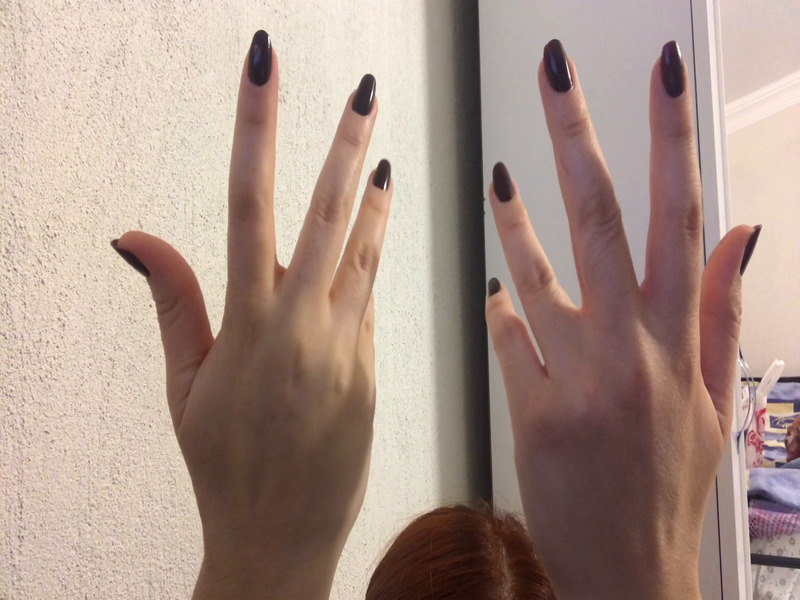hand: (481, 22, 764, 582), (110, 30, 393, 566)
